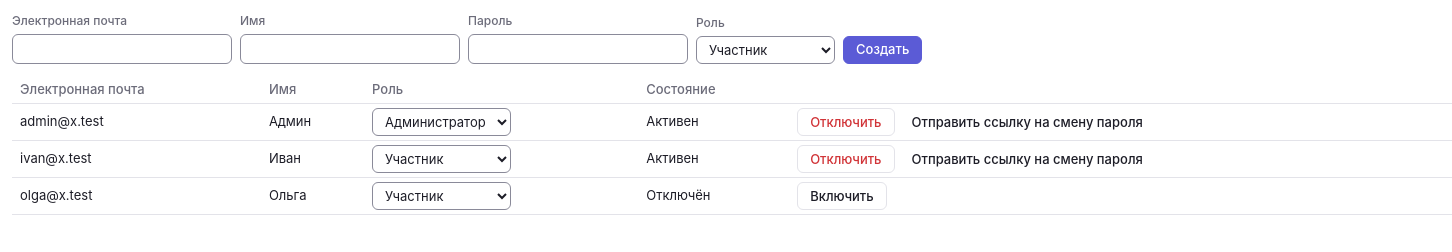
Test: usersTab_sendPasswordResetButton_sendsEmailToSelectedUser
Click the button with aria-label "Отправить ссылку на смену пароля ivan@x.test" at (1027, 159), box left=898, top=145, right=1156, bottom=173
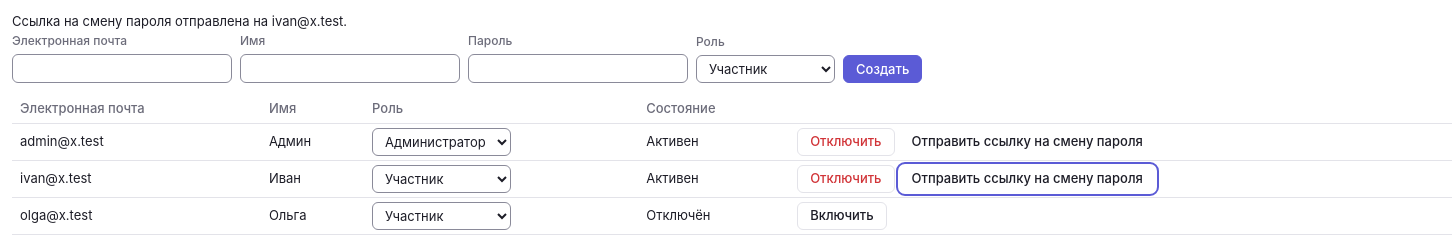
Now the message shows "ivan@x.test", box left=12, top=13, right=347, bottom=29
